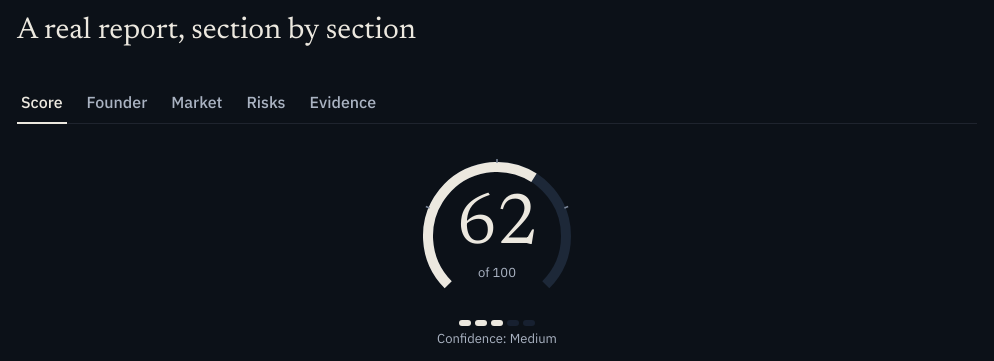
ReportTour › switches to the Founder tab's real dimension claims on click
Step 1. Click the tab "Founder" → [117, 103], box [83,82,151,124]
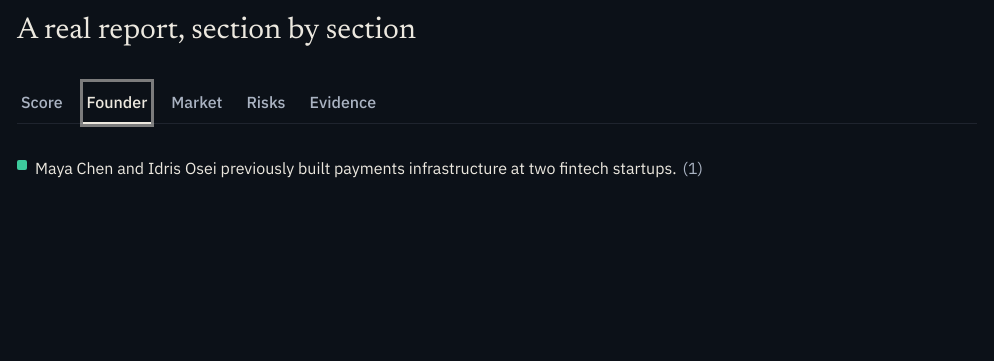
Now the text "previously built payments infrastructure" is shown, box [35,158,676,178]
